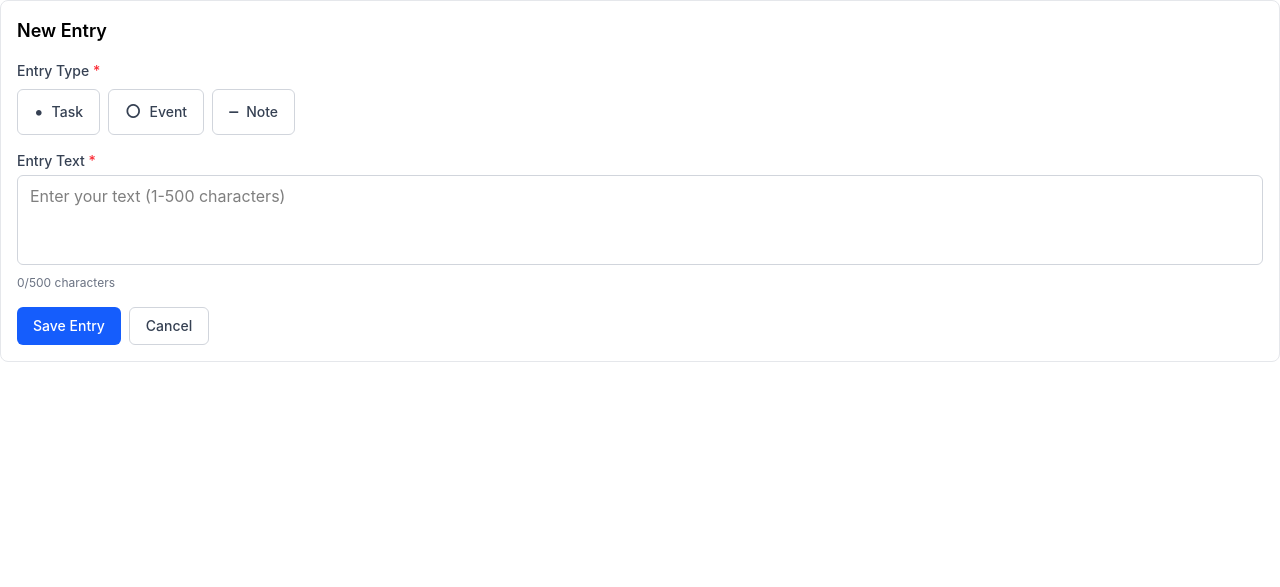
Test: EntryForm › prevents save of empty text entries with error message (Requirement 4.5)
This screenshot has width=1280, height=587.
Note: Select type but leave text empty
Click the button "• Task": click(58, 112) left=17, top=89, right=100, bottom=135
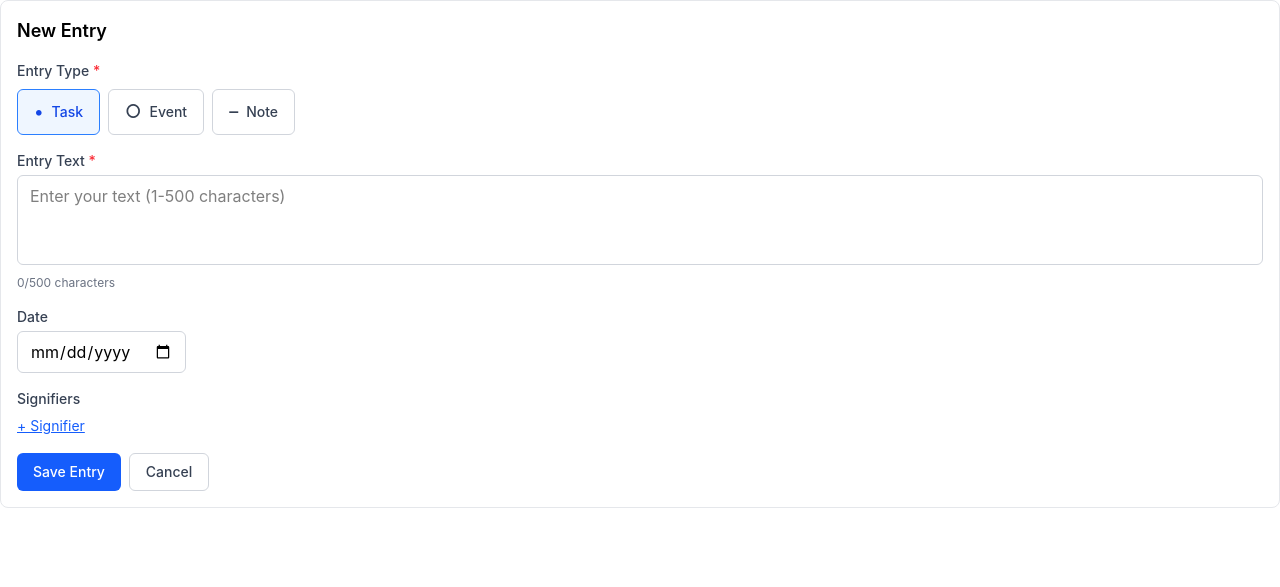
Click the button "Save Entry": click(69, 472) left=17, top=453, right=121, bottom=491
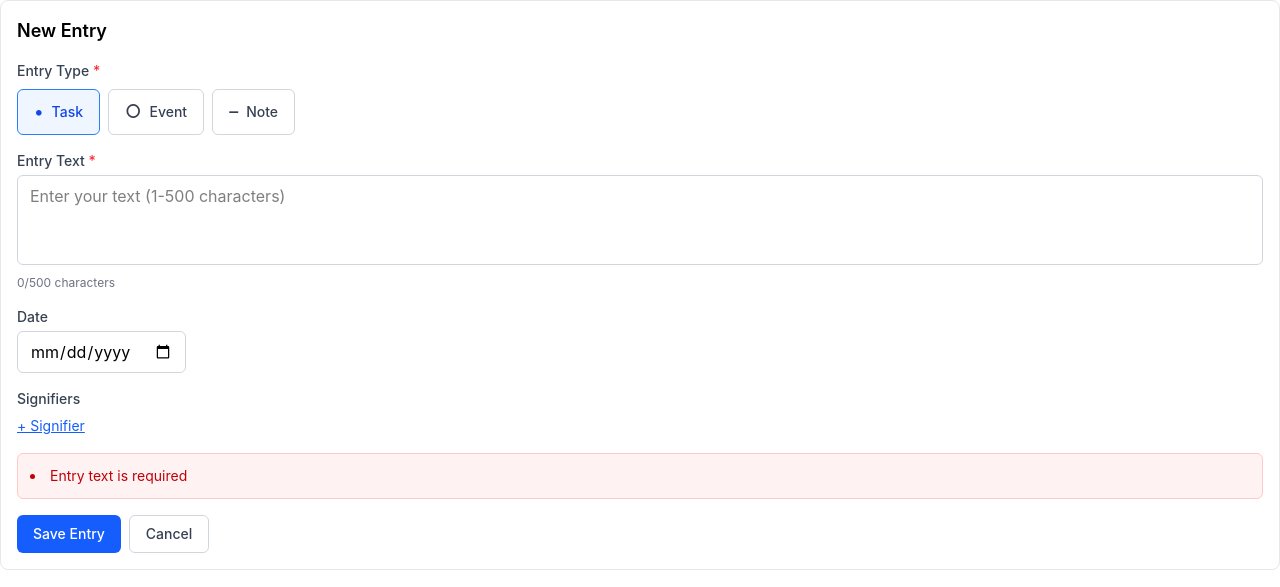
Result: the message "Entry text is required" is shown at left=17, top=453, right=1263, bottom=499
Result: the list item "Entry text is required" is shown at left=50, top=467, right=187, bottom=484
